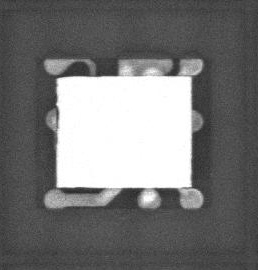DIE_BROKEN: (55, 80, 60, 146)
